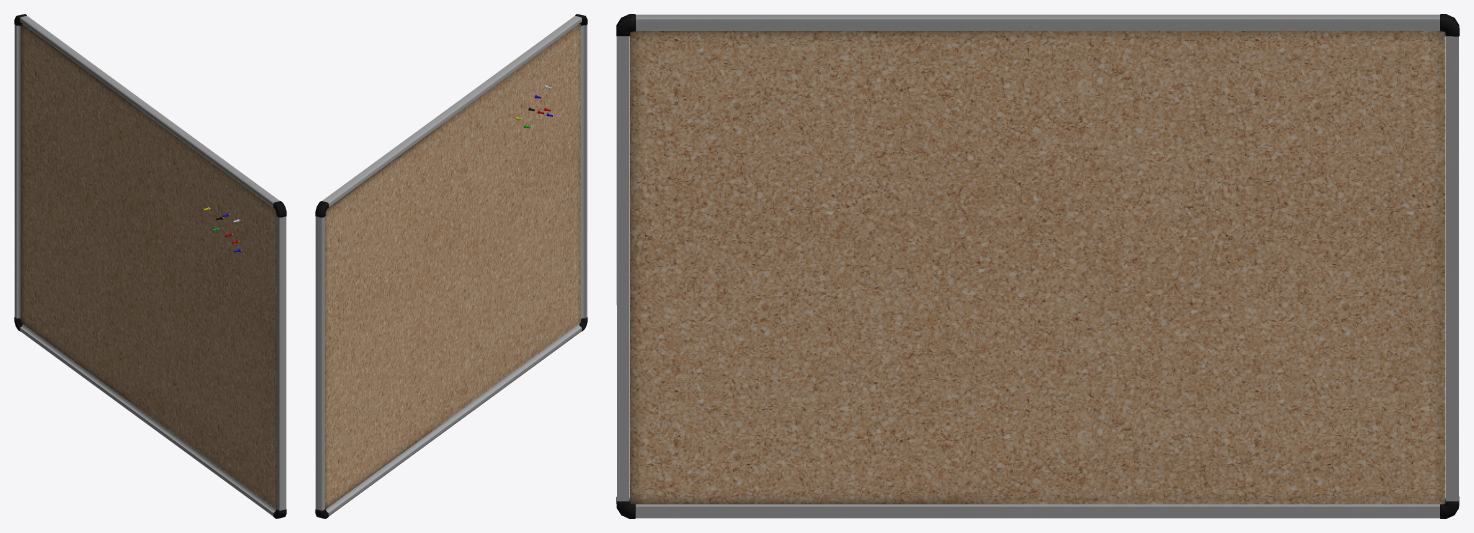
File: Prop_Cork_Board.fbx
3 views of the same model, side by side, from view 1: azimuth 30°, elevation 25°; view 2: azimuth 150°, elevation 25°; view 3: azimuth 270°, elevation 25° (orthographic). The views are drawn at different scales.
Parts seen in each view (by area): view 1: Prop_Cork_Board; view 2: Prop_Cork_Board; view 3: Prop_Cork_Board.
Part boxes in pixels (bbox=[...]): Prop_Cork_Board: bbox=[14, 14, 286, 518]; Prop_Cork_Board: bbox=[315, 14, 587, 518]; Prop_Cork_Board: bbox=[616, 14, 1459, 518].
Size of the model in its own units: 1.47 by 36.83 by 56.27.
